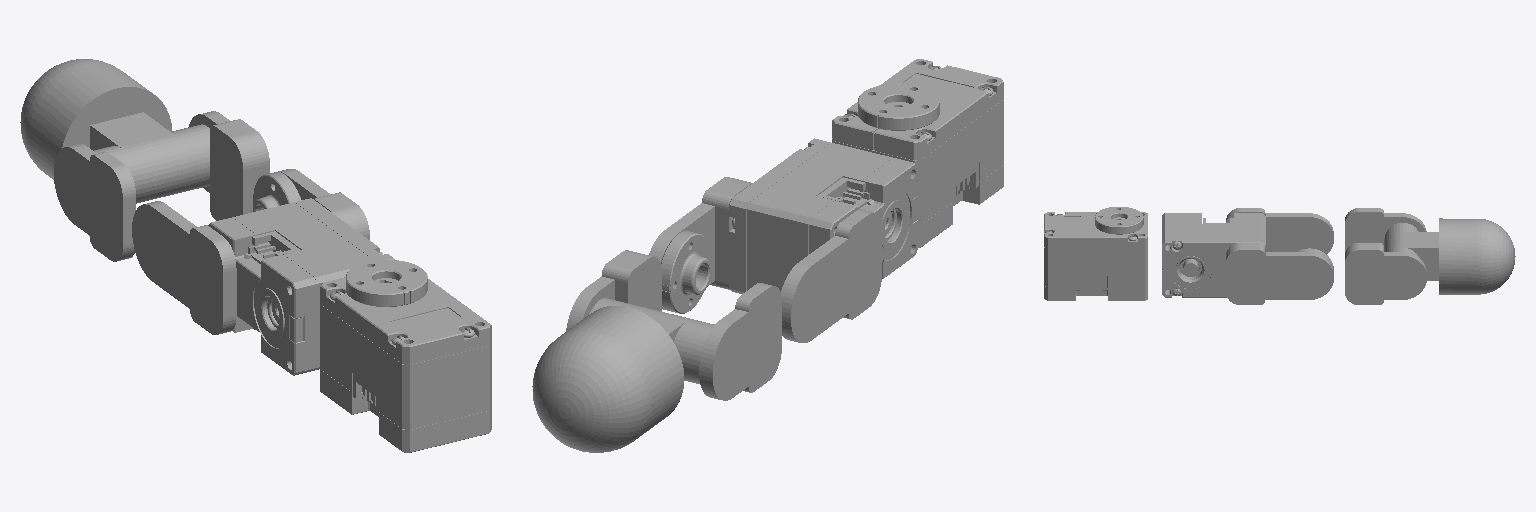
The robot description file, URDF, robot "URDF_finger_ssss":
<?xml version="1.0" ?>
<robot name="URDF_finger_ssss" xmlns:xacro="http://www.ros.org/wiki/xacro">

<link name="base_link">
  <inertial>
    <origin xyz="5.810609836920757e-14 -3.5557377263056094e-06 0.004698273696031688" rpy="0 0 0"/>
    <mass value="0.004531103214243681"/>
    <inertia ixx="0.0" iyy="0.0" izz="0.0" ixy="-0.0" iyz="-0.0" ixz="-0.0"/>
  </inertial>
  <visual>
    <origin xyz="0 0 0" rpy="0 0 0"/>
    <geometry>
      <mesh filename="package://description/meshes/short/base_link.stl" scale="0.001 0.001 0.001"/>
    </geometry>
    <material name="silver">
        <color rgba="0.7 0.7 0.7 1"/>
      </material>
  </visual>
  <collision>
    <origin xyz="0 0 0" rpy="0 0 0"/>
    <geometry>
      <mesh filename="package://description/meshes/short/base_link.stl" scale="0.001 0.001 0.001"/>
    </geometry>
  </collision>
</link>

<link name="MCP_spread_motor_1">
  <inertial>
    <origin xyz="4.40257654920099e-06 -0.0075382982459979535 -0.011349379478781948" rpy="0 0 0"/>
    <mass value="0.11379089624899982"/>
    <inertia ixx="1.6e-05" iyy="8e-06" izz="1.5e-05" ixy="0.0" iyz="0.0" ixz="-0.0"/>
  </inertial>
  <visual>
    <origin xyz="-0.0 0.0 -0.0036" rpy="0 0 0"/>
    <geometry>
      <mesh filename="package://description/meshes/short/MCP_spread_motor_1.stl" scale="0.001 0.001 0.001"/>
    </geometry>
    <material name="silver">
        <color rgba="0.7 0.7 0.7 1"/>
      </material>
  </visual>
  <collision>
    <origin xyz="-0.0 0.0 -0.0036" rpy="0 0 0"/>
    <geometry>
      <mesh filename="package://description/meshes/short/MCP_spread_motor_1.stl" scale="0.001 0.001 0.001"/>
    </geometry>
  </collision>
</link>

<link name="MCP_motor_1">
  <inertial>
    <origin xyz="-0.011349379464972085 0.0075382982462910975 4.402565036953562e-06" rpy="0 0 0"/>
    <mass value="0.11379089638693088"/>
    <inertia ixx="1.5e-05" iyy="8e-06" izz="1.6e-05" ixy="-0.0" iyz="-0.0" ixz="-0.0"/>
  </inertial>
  <visual>
    <origin xyz="-0.0106 -0.0235 0.008" rpy="0 0 0"/>
    <geometry>
      <mesh filename="package://description/meshes/short/MCP_motor_1.stl" scale="0.001 0.001 0.001"/>
    </geometry>
    <material name="silver">
        <color rgba="0.7 0.7 0.7 1"/>
      </material>
  </visual>
  <collision>
    <origin xyz="-0.0106 -0.0235 0.008" rpy="0 0 0"/>
    <geometry>
      <mesh filename="package://description/meshes/short/MCP_motor_1.stl" scale="0.001 0.001 0.001"/>
    </geometry>
  </collision>
</link>

<link name="proximal_1">
  <inertial>
    <origin xyz="-0.007236862961978075 0.027666892539839255 -4.565792188770956e-15" rpy="0 0 0"/>
    <mass value="0.03768293771588789"/>
    <inertia ixx="5e-06" iyy="8e-06" izz="1.1e-05" ixy="0.0" iyz="-0.0" ixz="-0.0"/>
  </inertial>
  <visual>
    <origin xyz="-0.0105 -0.0235 0.008" rpy="0 0 0"/>
    <geometry>
      <mesh filename="package://description/meshes/short/proximal_1.stl" scale="0.001 0.001 0.001"/>
    </geometry>
    <material name="silver">
        <color rgba="0.7 0.7 0.7 1"/>
      </material>
  </visual>
  <collision>
    <origin xyz="-0.0105 -0.0235 0.008" rpy="0 0 0"/>
    <geometry>
      <mesh filename="package://description/meshes/short/proximal_1.stl" scale="0.001 0.001 0.001"/>
    </geometry>
  </collision>
</link>

<link name="PIP_DIP_motor_1">
  <inertial>
    <origin xyz="-0.011349379464972083 0.007538298246842587 4.402565036979583e-06" rpy="0 0 0"/>
    <mass value="0.11379089638693098"/>
    <inertia ixx="1.5e-05" iyy="8e-06" izz="1.6e-05" ixy="-0.0" iyz="-0.0" ixz="-0.0"/>
  </inertial>
  <visual>
    <origin xyz="-0.0106 -0.0625 0.008" rpy="0 0 0"/>
    <geometry>
      <mesh filename="package://description/meshes/short/PIP_DIP_motor_1.stl" scale="0.001 0.001 0.001"/>
    </geometry>
    <material name="silver">
        <color rgba="0.7 0.7 0.7 1"/>
      </material>
  </visual>
  <collision>
    <origin xyz="-0.0106 -0.0625 0.008" rpy="0 0 0"/>
    <geometry>
      <mesh filename="package://description/meshes/short/PIP_DIP_motor_1.stl" scale="0.001 0.001 0.001"/>
    </geometry>
  </collision>
</link>

<link name="middle_1">
  <inertial>
    <origin xyz="-0.007884360620471112 0.022545172845046313 0.0" rpy="0 0 0"/>
    <mass value="0.026746234501644296"/>
    <inertia ixx="2e-06" iyy="6e-06" izz="7e-06" ixy="0.0" iyz="0.0" ixz="-0.0"/>
  </inertial>
  <visual>
    <origin xyz="-0.0105 -0.0625 0.008" rpy="0 0 0"/>
    <geometry>
      <mesh filename="package://description/meshes/short/middle_1.stl" scale="0.001 0.001 0.001"/>
    </geometry>
    <material name="silver">
        <color rgba="0.7 0.7 0.7 1"/>
      </material>
  </visual>
  <collision>
    <origin xyz="-0.0105 -0.0625 0.008" rpy="0 0 0"/>
    <geometry>
      <mesh filename="package://description/meshes/short/middle_1.stl" scale="0.001 0.001 0.001"/>
    </geometry>
  </collision>
</link>

<link name="distal_1">
  <inertial>
    <origin xyz="-0.013500000000000002 0.016749645936636748 3.469446951953614e-18" rpy="0 0 0"/>
    <mass value="0.11248722366134255"/>
    <inertia ixx="1.7e-05" iyy="8e-06" izz="1.8e-05" ixy="0.0" iyz="0.0" ixz="-0.0"/>
  </inertial>
  <visual>
    <origin xyz="-0.0135 -0.093 0.008" rpy="0 0 0"/>
    <geometry>
      <mesh filename="package://description/meshes/short/distal_1.stl" scale="0.001 0.001 0.001"/>
    </geometry>
    <material name="silver">
        <color rgba="0.7 0.7 0.7 1"/>
      </material>
  </visual>
  <collision>
    <origin xyz="-0.0135 -0.093 0.008" rpy="0 0 0"/>
    <geometry>
      <mesh filename="package://description/meshes/short/distal_1.stl" scale="0.001 0.001 0.001"/>
    </geometry>
  </collision>
</link>

<link name="metacarpal_1">
  <inertial>
    <origin xyz="0.000507870018372718 -0.0021674150680712355 -0.011500000000001617" rpy="0 0 0"/>
    <mass value="0.1043693930100677"/>
    <inertia ixx="2.6e-05" iyy="2.4e-05" izz="4e-05" ixy="-1e-06" iyz="-0.0" ixz="-0.0"/>
  </inertial>
  <visual>
    <origin xyz="-0.0 -0.0 -0.0035" rpy="0 0 0"/>
    <geometry>
      <mesh filename="package://description/meshes/short/metacarpal_1.stl" scale="0.001 0.001 0.001"/>
    </geometry>
    <material name="silver">
        <color rgba="0.7 0.7 0.7 1"/>
      </material>
  </visual>
  <collision>
    <origin xyz="-0.0 -0.0 -0.0035" rpy="0 0 0"/>
    <geometry>
      <mesh filename="package://description/meshes/short/metacarpal_1.stl" scale="0.001 0.001 0.001"/>
    </geometry>
  </collision>
</link>

<joint name="MCP_spread" type="continuous">
  <origin xyz="0.0 0.0 0.0036" rpy="0 0 0"/>
  <parent link="base_link"/>
  <child link="MCP_spread_motor_1"/>
  <axis xyz="0.0 0.0 -1.0"/>
</joint>

<joint name="MCP" type="continuous">
  <origin xyz="0.0106 0.0235 -0.0115" rpy="0 0 0"/>
  <parent link="metacarpal_1"/>
  <child link="MCP_motor_1"/>
  <axis xyz="-1.0 -0.0 -0.0"/>
</joint>

<joint name="Proximal_to_motor" type="fixed">
  <origin xyz="-0.0001 0.0 0.0" rpy="0 0 0"/>
  <parent link="MCP_motor_1"/>
  <child link="proximal_1"/>
</joint>

<joint name="PIP" type="continuous">
  <origin xyz="0.0001 0.039 0.0" rpy="0 0 0"/>
  <parent link="proximal_1"/>
  <child link="PIP_DIP_motor_1"/>
  <axis xyz="-1.0 -0.0 0.0"/>
</joint>

<joint name="Middle_to_motor" type="fixed">
  <origin xyz="-0.0001 0.0 0.0" rpy="0 0 0"/>
  <parent link="PIP_DIP_motor_1"/>
  <child link="middle_1"/>
</joint>

<joint name="DIP" type="continuous">
  <origin xyz="0.003 0.0305 0.0" rpy="0 0 0"/>
  <parent link="middle_1"/>
  <child link="distal_1"/>
  <axis xyz="1.0 0.0 -0.0"/>
</joint>

<joint name="Metacarpal_to_motor" type="fixed">
  <origin xyz="0.0 0.0 -0.0001" rpy="0 0 0"/>
  <parent link="MCP_spread_motor_1"/>
  <child link="metacarpal_1"/>
</joint>

</robot>

--- Facts derived from the render (not from the file) ---
Views: 3 orthographic renders of the robot side by side, from view 1: azimuth 30°, elevation 25°; view 2: azimuth 150°, elevation 25°; view 3: azimuth 270°, elevation 25°.
Model URDF_finger_ssss with 8 links and 7 joints (4 continuous, 3 fixed), rooted at base_link, posed every joint at zero.
Visible links, largest first — view 1: MCP_spread_motor_1, distal_1, MCP_motor_1, proximal_1, middle_1, base_link; view 2: distal_1, MCP_motor_1, proximal_1, MCP_spread_motor_1, middle_1, base_link; view 3: proximal_1, MCP_spread_motor_1, distal_1, MCP_motor_1, middle_1, base_link.
Boxes of the visible links, x1,y1,x2,y2 form: MCP_spread_motor_1: (320, 277, 491, 452); distal_1: (20, 59, 209, 203); MCP_motor_1: (208, 198, 394, 375); proximal_1: (132, 169, 369, 334); middle_1: (54, 111, 269, 261); base_link: (346, 260, 427, 306); distal_1: (532, 298, 714, 452); MCP_motor_1: (729, 138, 917, 293); proximal_1: (649, 177, 881, 342); MCP_spread_motor_1: (832, 59, 1003, 247); middle_1: (566, 250, 781, 400); base_link: (858, 83, 939, 130); proximal_1: (1226, 208, 1333, 304); MCP_spread_motor_1: (1044, 212, 1147, 300); distal_1: (1384, 218, 1515, 294); MCP_motor_1: (1162, 213, 1265, 297); middle_1: (1345, 208, 1426, 304); base_link: (1095, 207, 1143, 234).
Size in the robot's own frame: 0.033 by 0.1545 by 0.027 metres.
Meshes: 8 distinct files referenced, 6 mesh visuals loaded (6 binary STL); not drawn: 2 (reference not matched to a file when rendering).